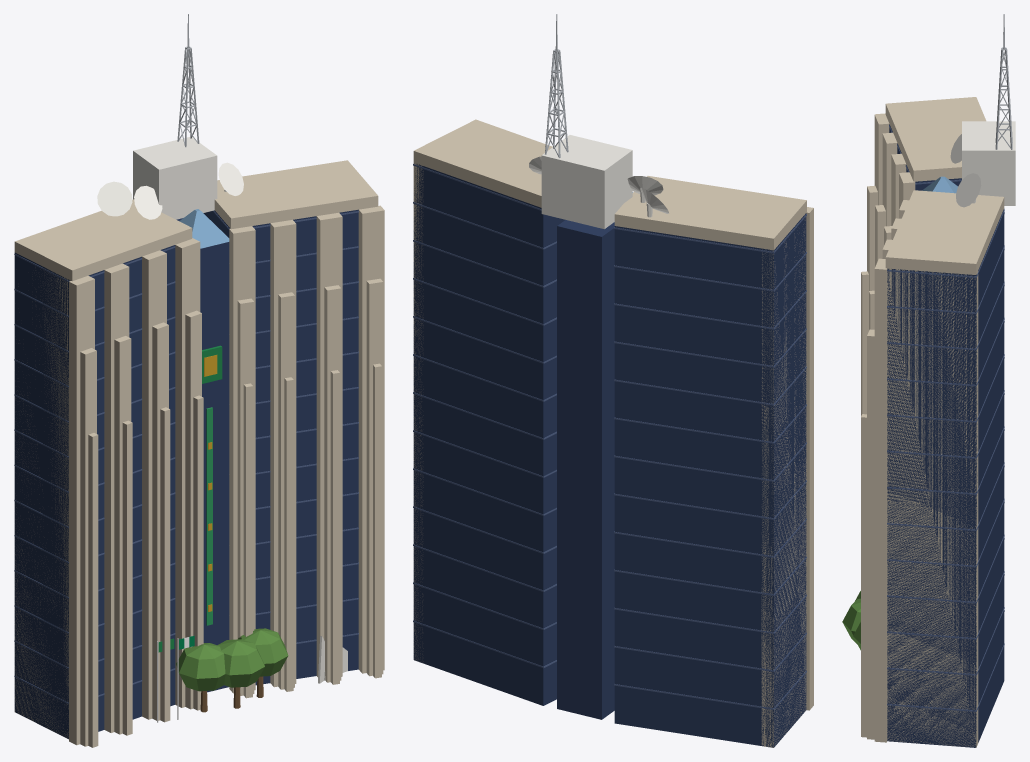
Rendered from cbn.glb.
The picture shows the model from 3 angles, left to right: view 1: azimuth 30°, elevation 25°; view 2: azimuth 150°, elevation 25°; view 3: azimuth 270°, elevation 25°; orthographic projection. The views are drawn at different scales.
Parts seen in each view (by area): view 1: cbn_Building; view 2: cbn_Building; view 3: cbn_Building.
Boxes of the visible parts, x1,y1,x2,y2 form: cbn_Building: (14,14,384,747); cbn_Building: (413,14,813,747); cbn_Building: (842,14,1015,747).
Bounding box in the file's own units: 25.82 × 47.5 × 11.3.
